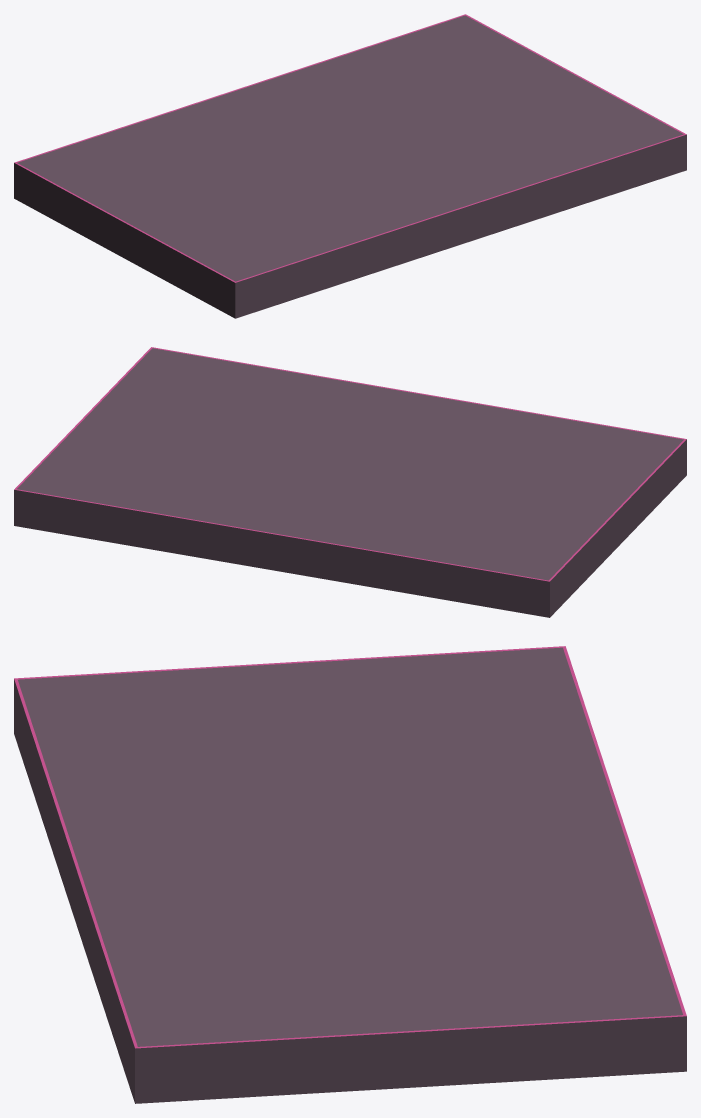
The model's file is way-205656857.glb.
The picture shows the model from 3 angles, top to bottom: view 1: azimuth 30°, elevation 25°; view 2: azimuth 150°, elevation 25°; view 3: azimuth 270°, elevation 25°; orthographic projection. The views are drawn at different scales.
Parts seen in each view (by area): view 1: way-205656857; view 2: way-205656857; view 3: way-205656857.
Boxes of the visible parts, x1,y1,x2,y2 form: way-205656857: [14, 14, 686, 318]; way-205656857: [14, 347, 686, 617]; way-205656857: [14, 646, 686, 1103].
Size of the model in its own units: 46.75 by 3 by 33.04.
